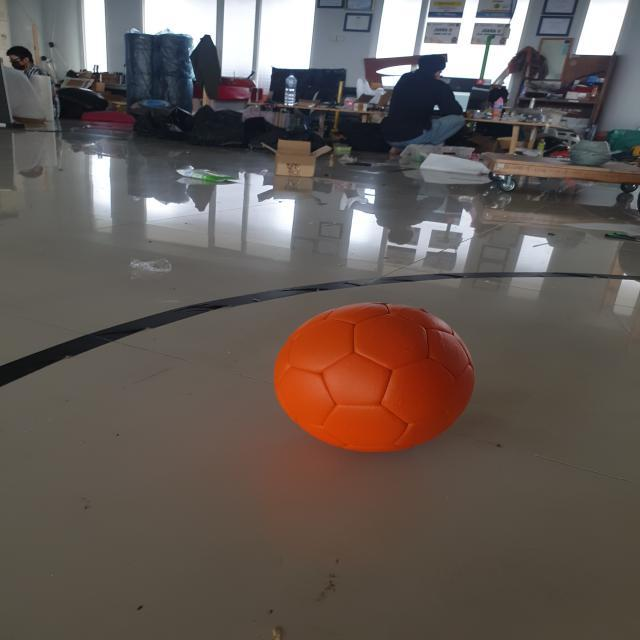bola: (264, 300, 480, 456)
